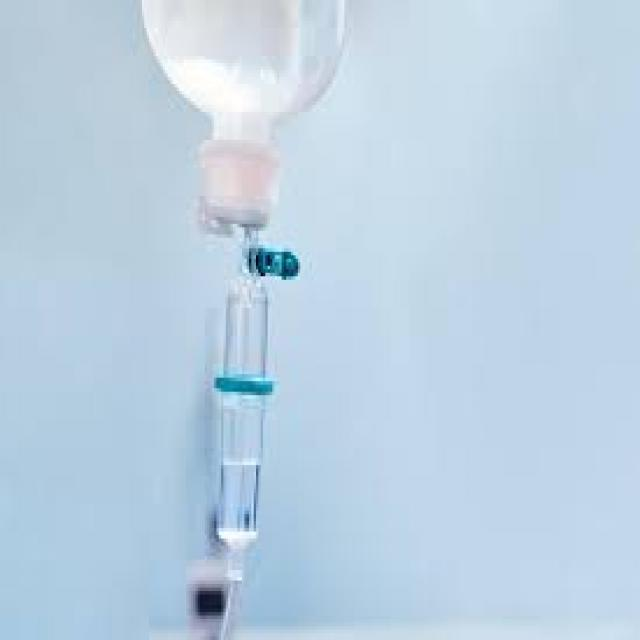iv_fluids: (162, 51, 303, 549)
